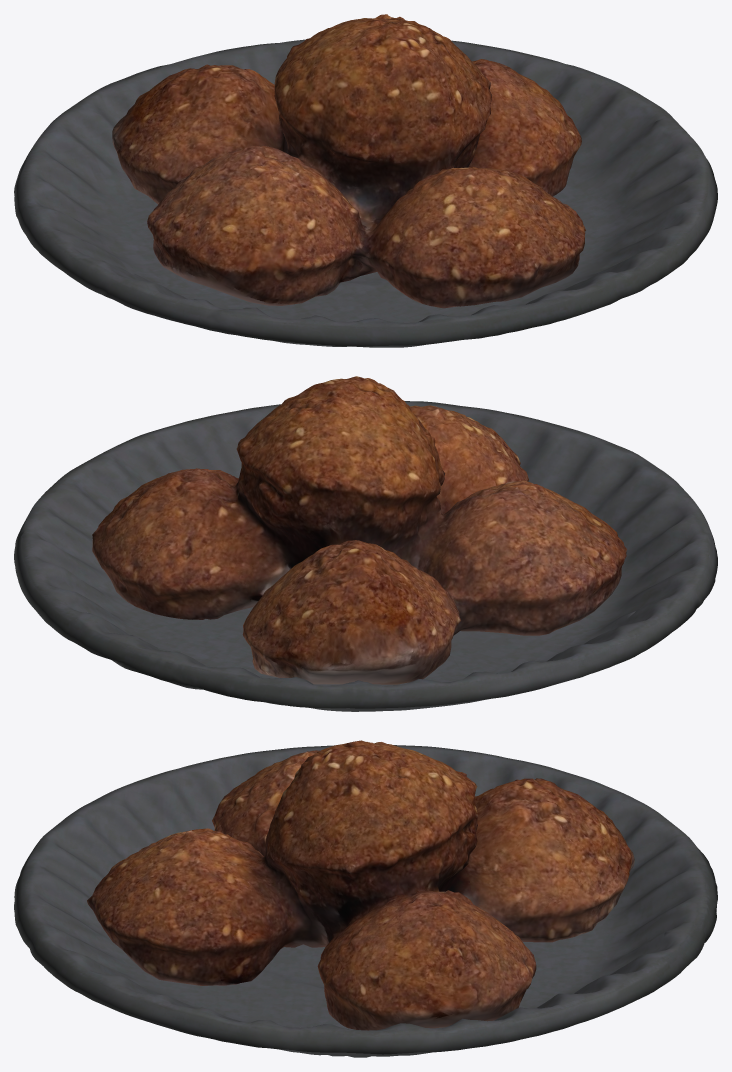
Rendered from falafel.k.m.glb.
The picture shows the model from 3 angles, top to bottom: view 1: azimuth 30°, elevation 25°; view 2: azimuth 150°, elevation 25°; view 3: azimuth 270°, elevation 25°; orthographic projection.
Parts seen in each view (by area): view 1: 3DModel.001, Mesh_0.004; view 2: 3DModel.001, Mesh_0.004; view 3: 3DModel.001, Mesh_0.004.
Boxes of the visible parts, bbox=[...] form: 3DModel.001: bbox=[112, 14, 585, 308]; Mesh_0.004: bbox=[14, 39, 717, 347]; 3DModel.001: bbox=[92, 376, 626, 684]; Mesh_0.004: bbox=[14, 401, 717, 711]; 3DModel.001: bbox=[87, 740, 634, 1030]; Mesh_0.004: bbox=[14, 745, 717, 1057].
Bounding box in the file's own units: 0.2157 × 0.0718 × 0.2158.
Materials: 2 (2 with a texture image).
